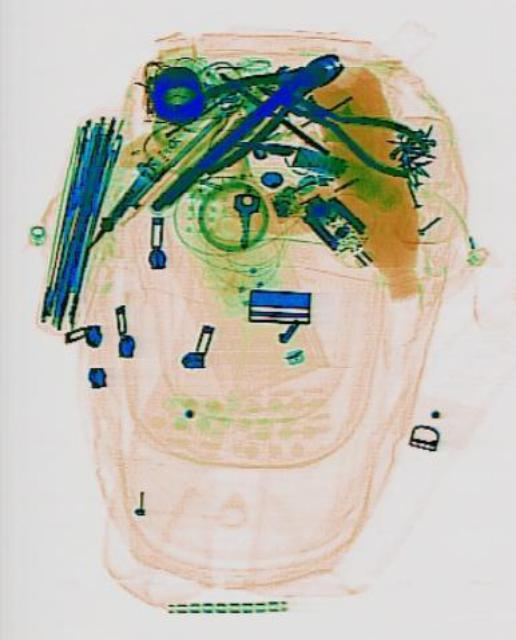Pliers: (173, 24, 353, 176), (253, 59, 421, 181)
